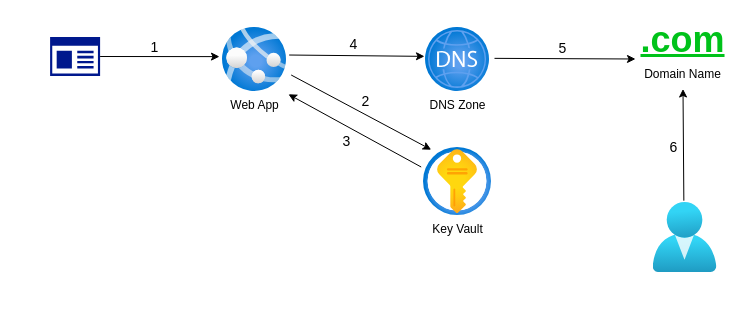
This 748x310 diagram has some shape labels left out. Here are the shapes that lost their labels. From the top down, the centre of each, then its label:
At (x=75, y=56): "WinForms Application".
At (x=684, y=237): "User".
